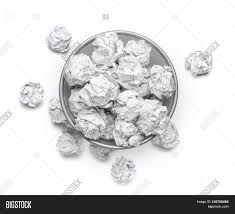paper: (87, 27, 127, 68), (105, 53, 148, 90), (78, 75, 121, 110), (132, 101, 171, 139), (59, 52, 100, 87), (144, 61, 178, 100), (112, 89, 149, 123), (73, 108, 108, 139), (110, 118, 146, 148), (42, 23, 75, 55), (180, 47, 213, 79), (14, 79, 47, 109), (122, 36, 155, 66), (108, 155, 138, 186), (45, 96, 72, 126), (52, 130, 79, 157)
